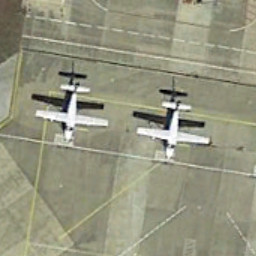Airplane: (25, 65, 112, 173), (136, 88, 214, 167)
